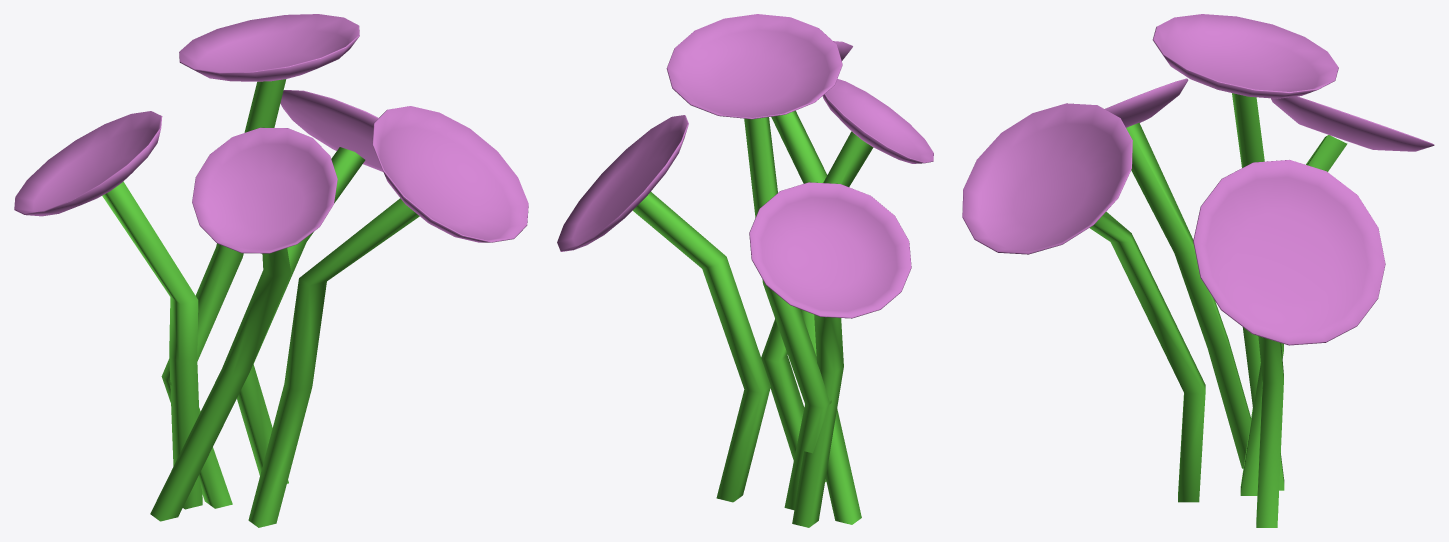
Rendered from Flower_16.fbx.
3 views of the same model, side by side, from view 1: azimuth 30°, elevation 25°; view 2: azimuth 150°, elevation 25°; view 3: azimuth 270°, elevation 25° (orthographic). The views are drawn at different scales.
Visible parts, largest first — view 1: Flower_16; view 2: Flower_16; view 3: Flower_16.
Part boxes in pixels (left/top/right/bottom): Flower_16: left=14, top=14, right=528, bottom=527; Flower_16: left=557, top=14, right=933, bottom=527; Flower_16: left=962, top=14, right=1434, bottom=527.
Size of the model in its own units: 58.65 by 69.21 by 61.23.
